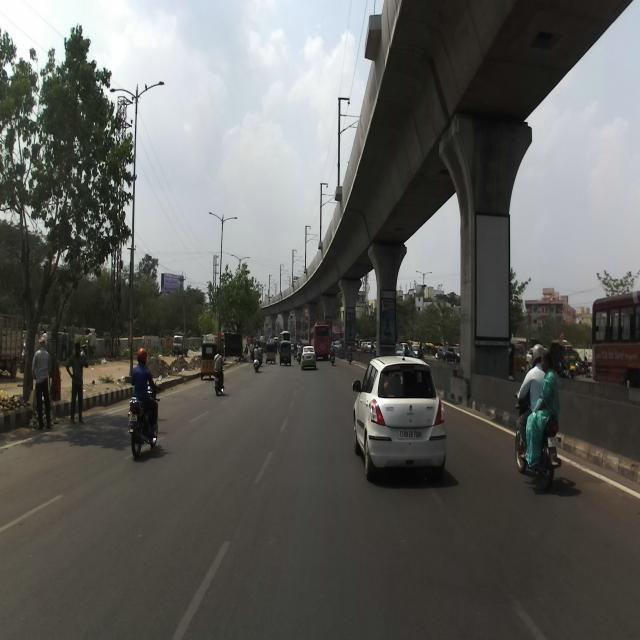car: (351, 351, 445, 482)
motorcycle: (514, 391, 561, 491), (127, 373, 162, 458)
